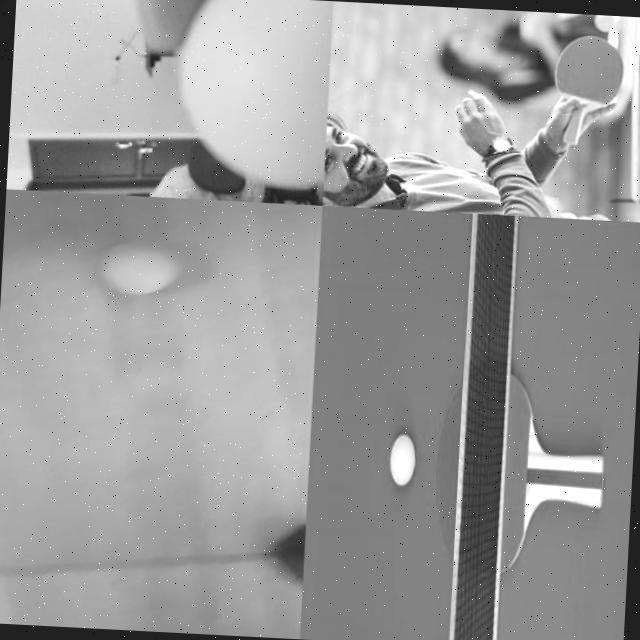ping-pong-ball: (173, 0, 332, 184), (99, 240, 180, 296), (388, 432, 417, 483), (594, 14, 616, 31)
